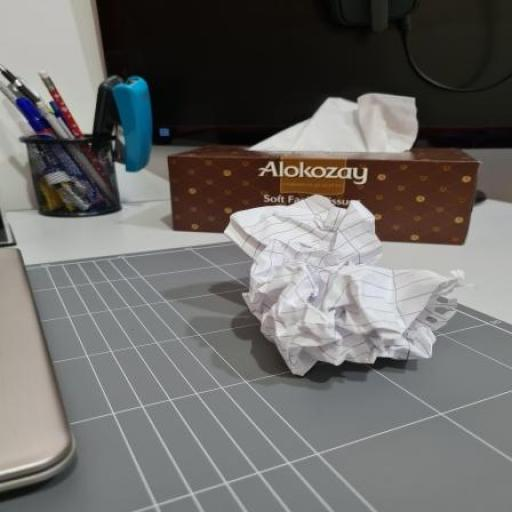paper: (226, 197, 468, 379)
